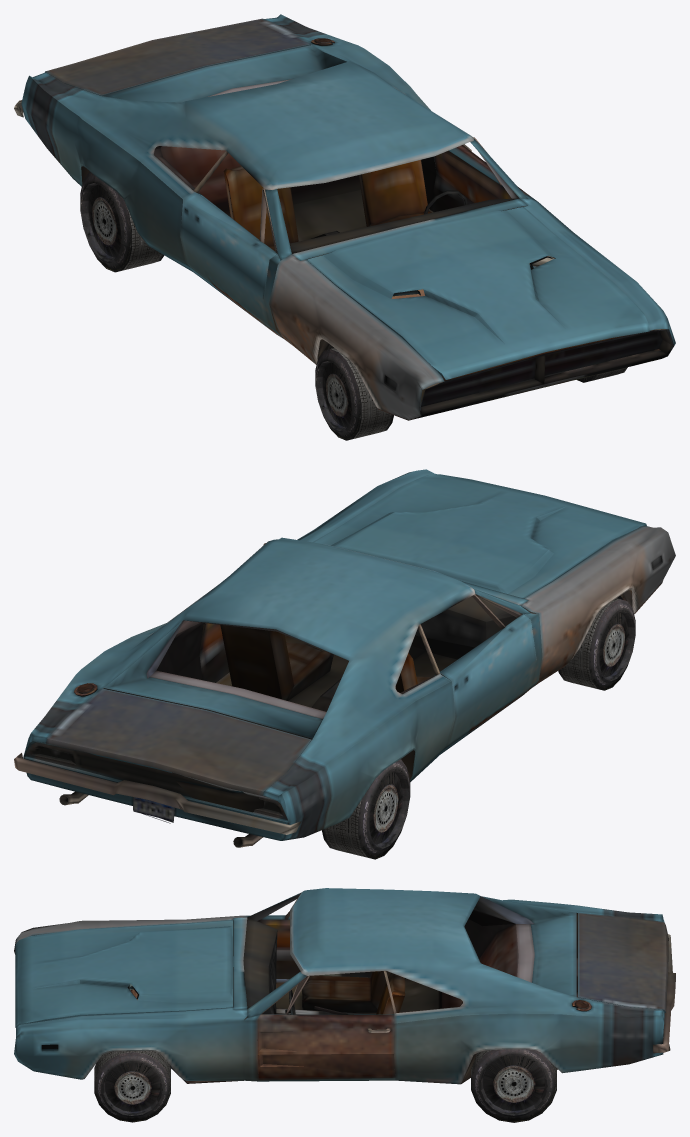
Rendered from hemi_model.FBX.
The picture shows the model from 3 angles, top to bottom: view 1: azimuth 30°, elevation 25°; view 2: azimuth 150°, elevation 25°; view 3: azimuth 270°, elevation 25°; orthographic projection. The views are drawn at different scales.
Visible parts, largest first — view 1: Car_Body, RB_Wheel, RF_Wheel; view 2: Car_Body, RB_Wheel, RF_Wheel; view 3: Car_Body, LB_Wheel, LF_Wheel.
Part boxes in pixels (box(x1,y1,x2,y2)): Car_Body: box(14, 14, 675, 420); RB_Wheel: box(80, 171, 164, 272); RF_Wheel: box(315, 348, 393, 440); Car_Body: box(14, 469, 675, 847); RB_Wheel: box(322, 759, 410, 859); RF_Wheel: box(558, 598, 635, 690); Car_Body: box(14, 888, 675, 1084); LB_Wheel: box(471, 1049, 556, 1122); LF_Wheel: box(94, 1050, 170, 1122).
Size of the model in its own units: 108 by 61.2 by 242.
